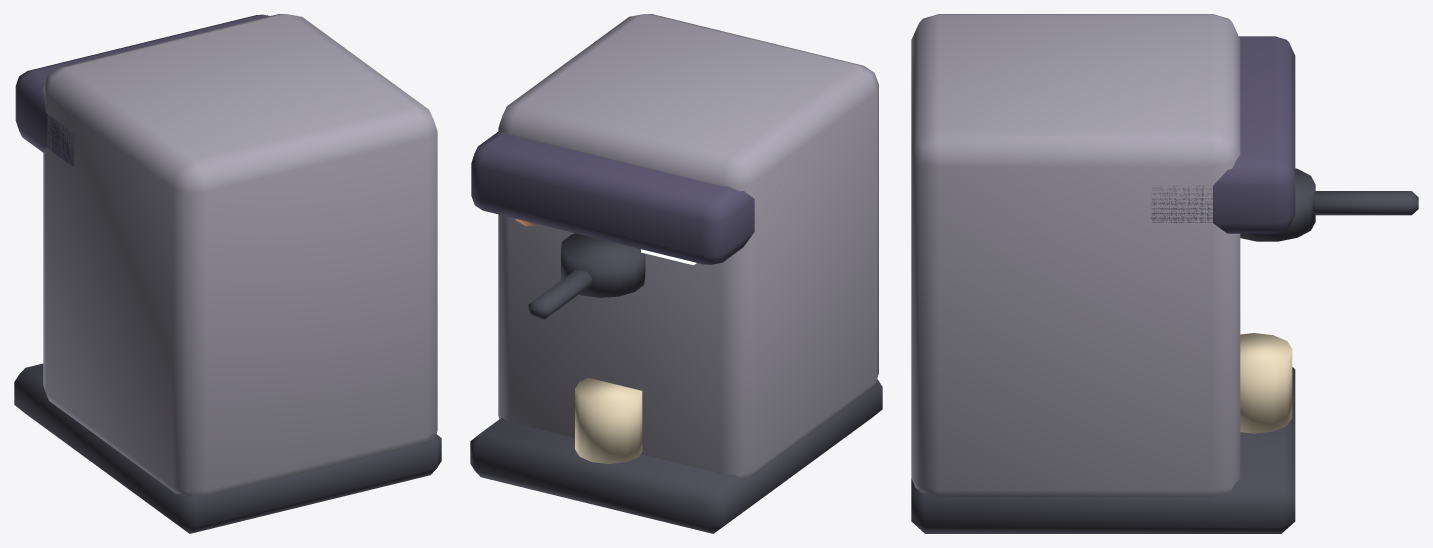
File: senior_espresso_machine.glb
3 renders of one model, left to right at view 1: azimuth 30°, elevation 25°; view 2: azimuth 150°, elevation 25°; view 3: azimuth 270°, elevation 25°, orthographic. The views are drawn at different scales.
Visible parts, largest first — view 1: senior_espresso_machine__Metal, senior_espresso_machine__DarkGrey, senior_espresso_machine__SlateLavDark; view 2: senior_espresso_machine__Metal, senior_espresso_machine__DarkGrey, senior_espresso_machine__SlateLavDark, senior_espresso_machine__Cream; view 3: senior_espresso_machine__Metal, senior_espresso_machine__DarkGrey, senior_espresso_machine__SlateLavDark, senior_espresso_machine__Cream.
Part boxes in pixels (x1=…): senior_espresso_machine__Metal: x1=43, y1=14, x2=437, y2=496; senior_espresso_machine__DarkGrey: x1=14, y1=363, x2=441, y2=533; senior_espresso_machine__SlateLavDark: x1=15, y1=14, x2=269, y2=167; senior_espresso_machine__Metal: x1=498, y1=14, x2=878, y2=477; senior_espresso_machine__DarkGrey: x1=470, y1=233, x2=882, y2=533; senior_espresso_machine__SlateLavDark: x1=471, y1=132, x2=780, y2=264; senior_espresso_machine__Cream: x1=575, y1=378, x2=642, y2=463; senior_espresso_machine__Metal: x1=911, y1=14, x2=1240, y2=497; senior_espresso_machine__DarkGrey: x1=911, y1=168, x2=1418, y2=533; senior_espresso_machine__SlateLavDark: x1=1151, y1=36, x2=1295, y2=233; senior_espresso_machine__Cream: x1=1240, y1=333, x2=1292, y2=433.
Size of the model in its own units: 0.24 by 0.32 by 0.37.
